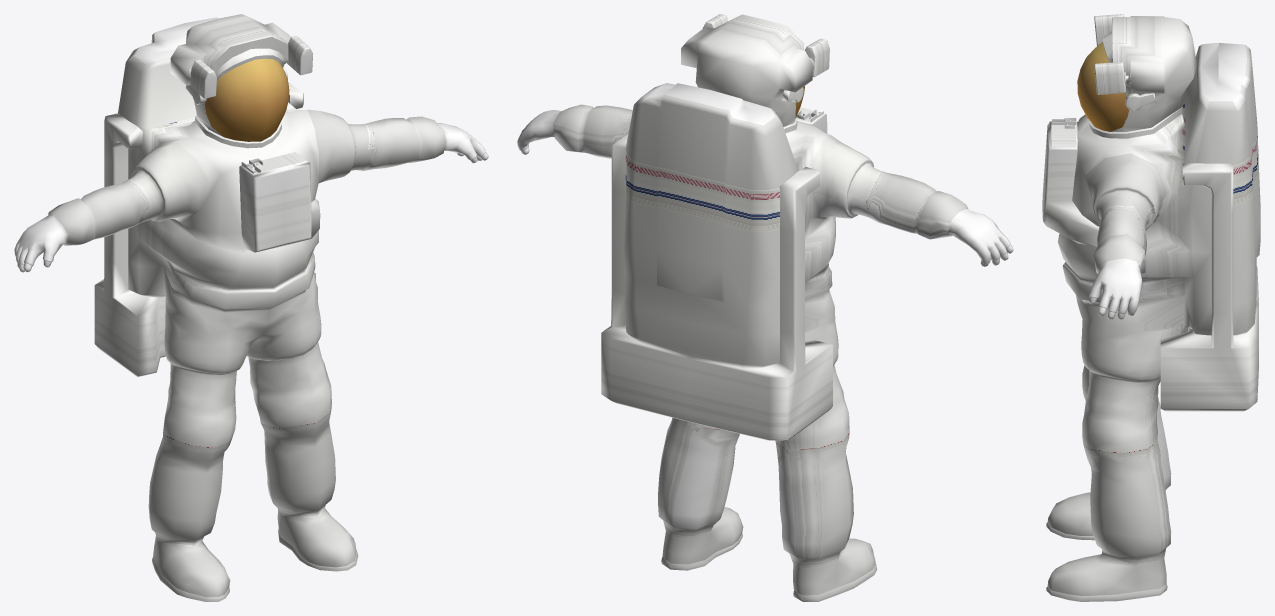
The model's file is astronaut.glb.
The picture shows the model from 3 angles, left to right: view 1: azimuth 30°, elevation 25°; view 2: azimuth 150°, elevation 25°; view 3: azimuth 270°, elevation 25°; orthographic projection. The views are drawn at different scales.
Parts seen in each view (by area): view 1: astronaut1; view 2: astronaut1; view 3: astronaut1.
Part boxes in pixels (box(x1,y1,x2,y2)): astronaut1: box(14, 14, 488, 601); astronaut1: box(517, 14, 1013, 601); astronaut1: box(1042, 14, 1260, 601).
Size of the model in its own units: 1.67 by 1.8 by 0.6689.
Materials: 2 (2 with a texture image).
